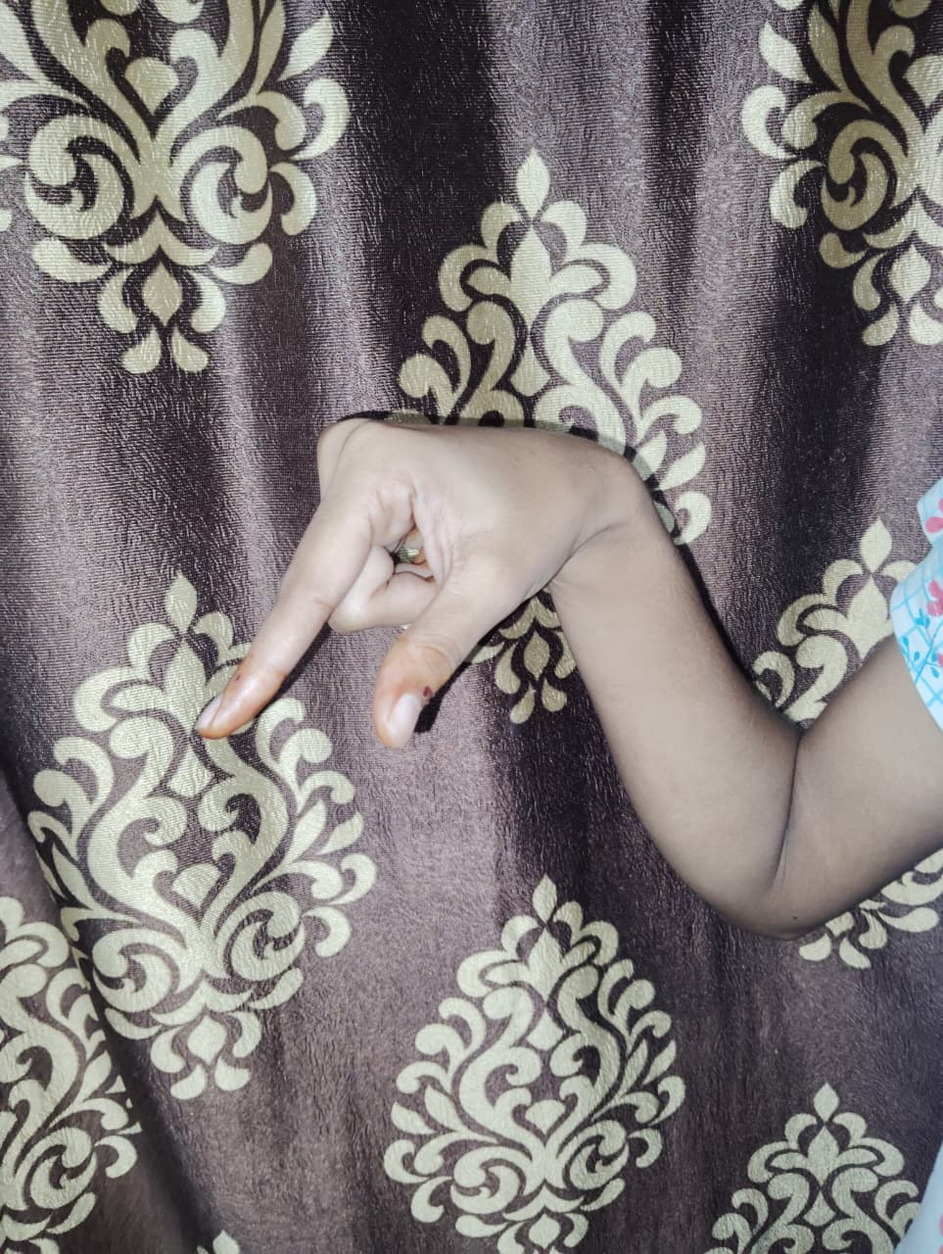Q: (206, 414, 597, 744)
